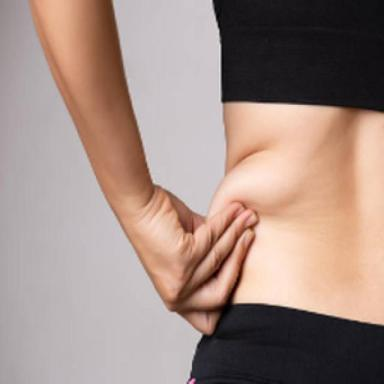normal skin: (31, 0, 384, 333)
